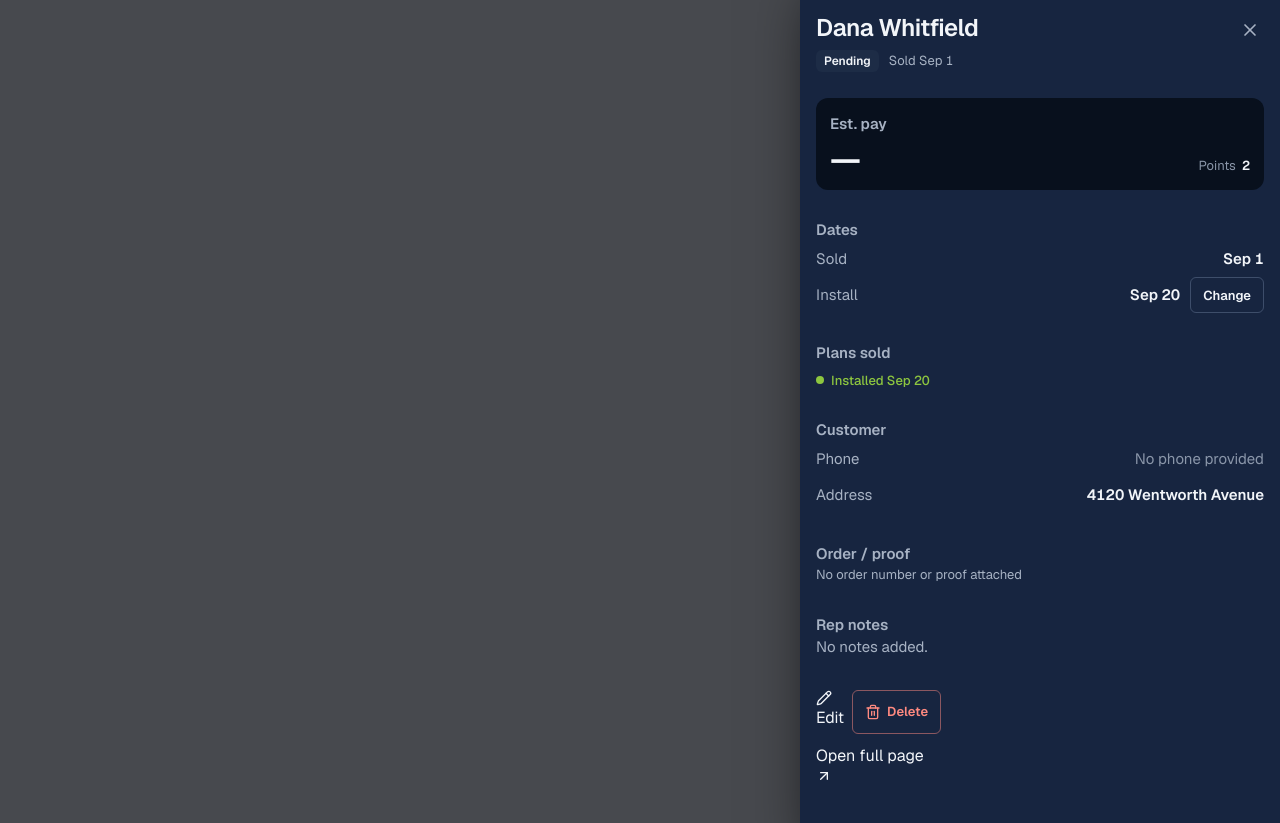
SaleDetailSheet install date › shows the server's reason when an admin's save on someone else's sale is refused
Click the button "Change".
click(1227, 295)  # box x1=1190 y1=277 x2=1264 y2=313
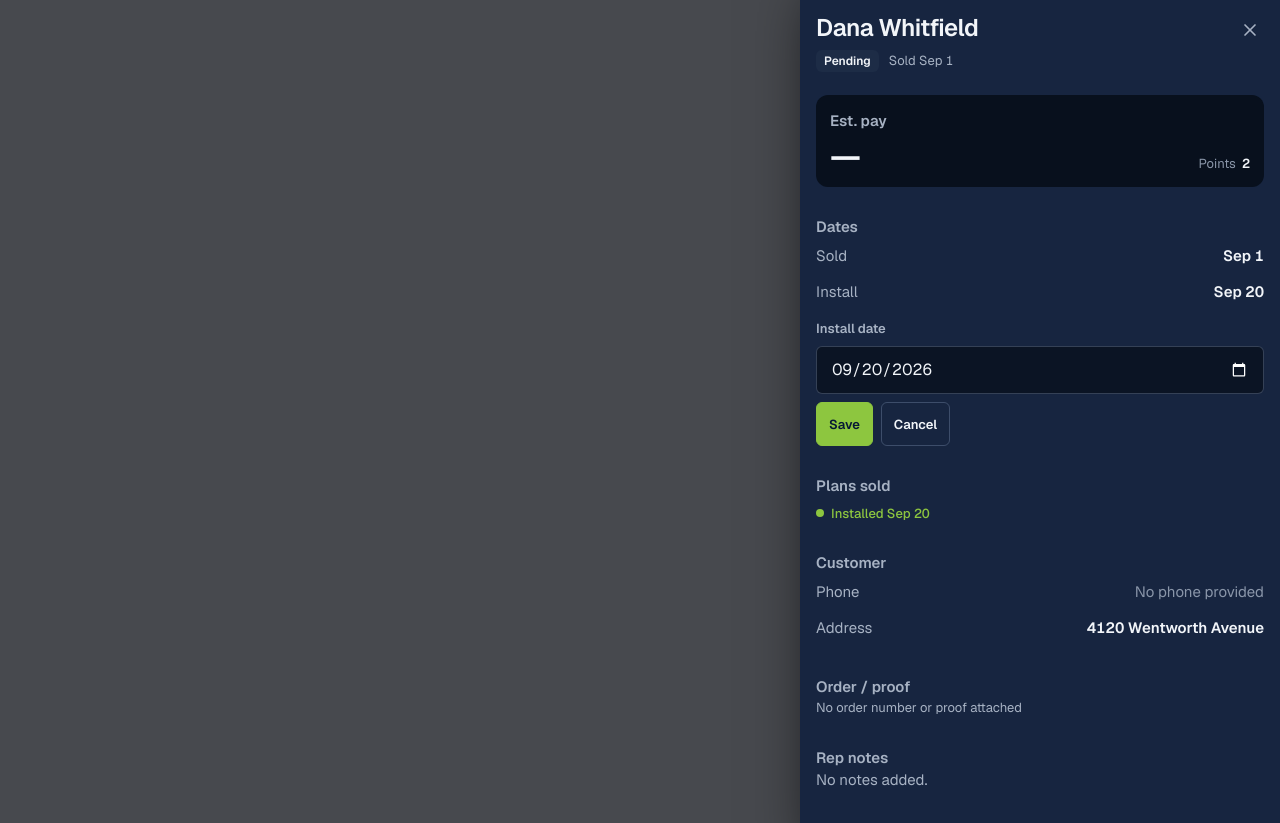
Click the button "Save".
click(844, 424)  # box x1=816 y1=402 x2=873 y2=446
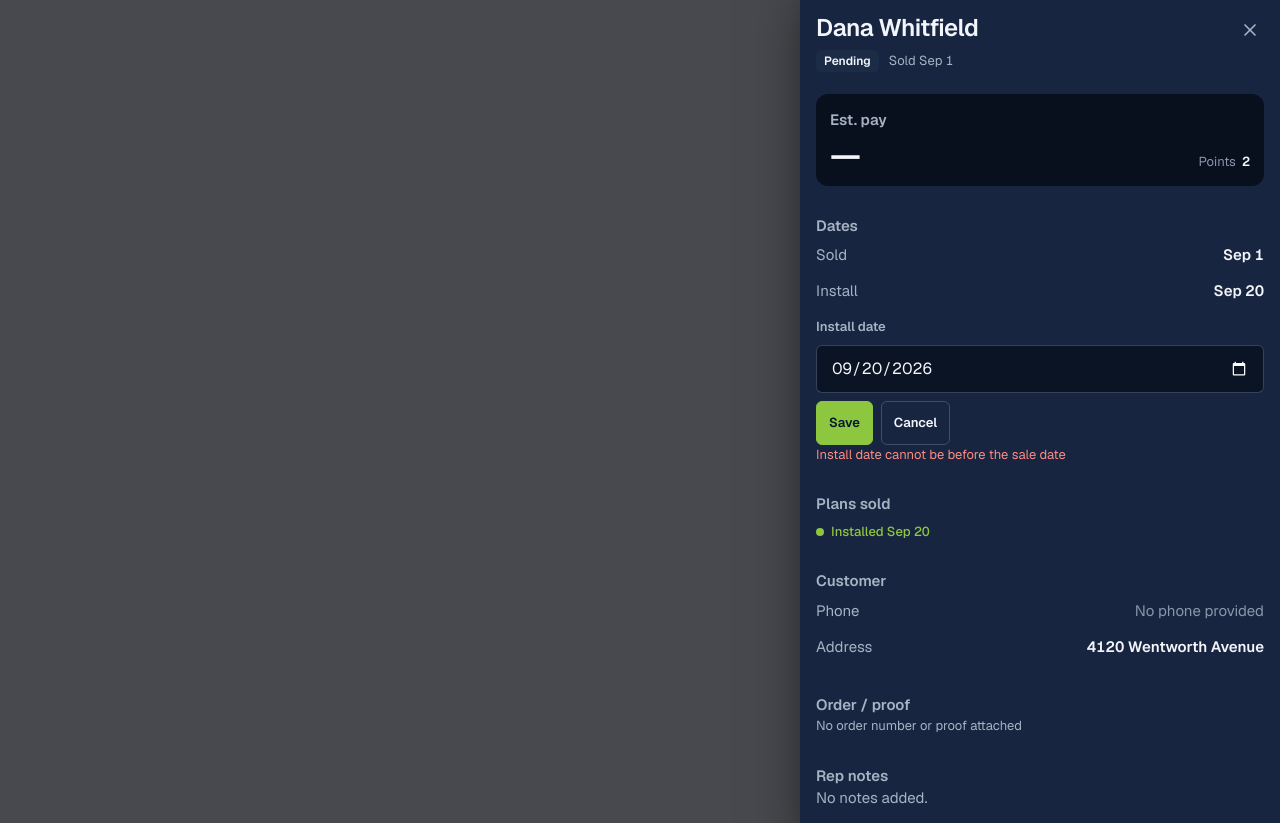
Check: the text "Install date cannot be before the sale date" is shown, box x1=816 y1=446 x2=1066 y2=463
